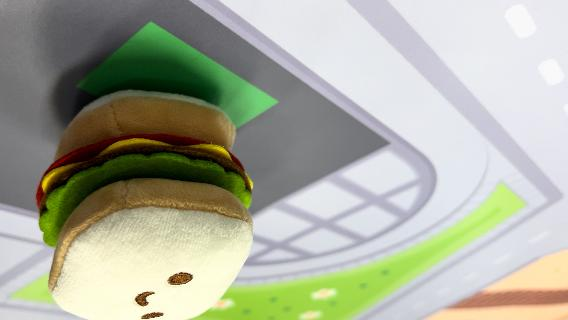sandwich: (34, 87, 258, 317)
